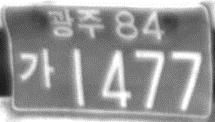1: (70, 46, 89, 108)
4: (99, 48, 133, 108), (139, 9, 164, 41)
7: (168, 49, 203, 112), (132, 49, 167, 111)
8: (114, 9, 140, 41)
가: (17, 47, 54, 89)
광주_O: (47, 6, 104, 39)
